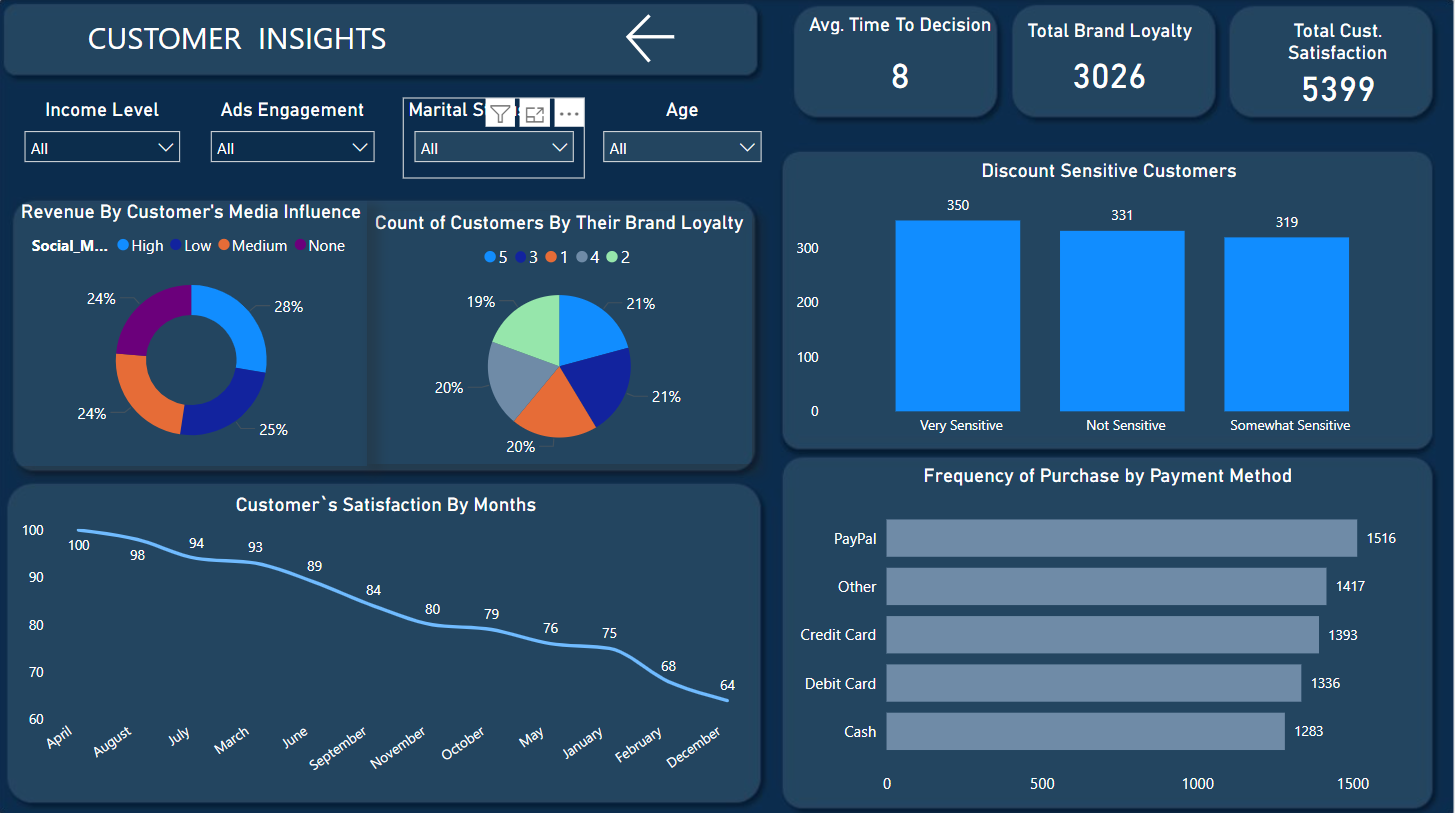

This screenshot's page, from the dashboard's own definition file:
{"tool":"powerbi","page":{"name":"Page 2","canvas":[1280,720],"ordinal":1},"visuals":[{"type":"textbox","box":[14.3,9.5,390.5,46.4],"z":0},{"type":"lineChart","title":" Customer`s Satisfaction By Months","fields":{"Y":["CountNonNull(Ecommerce Project Data.Customer_Satisfaction)"],"Category":["Ecommerce Project Data.Months"]},"box":[14.3,433.3,652.4,267.9],"z":1000},{"type":"slicer","title":"Income Level ","fields":{"Values":["Ecommerce Project Data.Income_Level"]},"box":[11.9,85.7,157.1,71.4],"z":2000},{"type":"slicer","title":"Ads Engagement ","fields":{"Values":["Ecommerce Project Data.Engagement_with_Ads"]},"box":[176.2,85.7,164.3,71.4],"z":3000},{"type":"pieChart","title":"Count of Customers By Their Brand Loyalty","fields":{"Y":["CountNonNull(Ecommerce Project Data.Customer_ID)"],"Category":["Ecommerce Project Data.Brand_Loyalty"]},"box":[323.8,185.7,339.3,222.6],"z":4000},{"type":"clusteredBarChart","title":" Frequency of Purchase by Payment Method","fields":{"Category":["Ecommerce Project Data.Payment_Method"],"Y":["Sum(Ecommerce Project Data.Frequency_of_Purchase)"]},"box":[695.2,408.3,560.7,301.2],"z":5000},{"type":"donutChart","title":"Revenue By Customer''s Media Influence","fields":{"Category":["Ecommerce Project Data.Social_Media_Influence"],"Y":["Sum(Ecommerce Project Data.Purchase_Amount)"]},"box":[14.3,176.2,309.5,233.3],"z":6000},{"type":"clusteredColumnChart","title":"Discount Sensitive Customers","fields":{"Y":["CountNonNull(Ecommerce Project Data.Customer_ID)"],"Category":["Ecommerce Project Data.Discount_Sensitivity"]},"box":[696.4,139.3,560.7,252.4],"z":7000},{"type":"slicer","title":"Marital Status","fields":{"Values":["Ecommerce Project Data.Marital_Status"]},"box":[354.8,85.7,160.7,71.4],"z":8000},{"type":"slicer","title":"Age","fields":{"Values":["Ecommerce Project Data.Age"]},"box":[521.4,85.7,159.5,71.4],"z":9000},{"type":"card","title":"Total Brand Loyalty ","fields":{"Values":["Sum(Ecommerce Project Data.Brand_Loyalty)"]},"box":[894.1,16.7,166.7,77.4],"z":10000},{"type":"card","title":"Avg. Time To Decision","fields":{"Values":["Avg(Ecommerce Project Data.Time_to_Decision)"]},"box":[707.1,10.7,171.4,88.1],"z":11000},{"type":"card","title":"Total Cust. Satisfaction ","fields":{"Values":["Sum(Ecommerce Project Data.Customer_Satisfaction)"]},"box":[1091.7,16.7,171.4,82.1],"z":12000},{"type":"actionButton","box":[546.4,7.1,100,54.8],"z":13000}]}

Visuals, with their boxes in screenshot pixels (x1, y1, x2, y2), scaled from the page's 1280x720 canvas onto the 1455x813 screenshot:
textbox: detection(16, 11, 460, 63)
" Customer`s Satisfaction By Months" lineChart: detection(16, 489, 758, 792)
"Income Level " slicer: detection(14, 97, 192, 177)
"Ads Engagement " slicer: detection(200, 97, 387, 177)
"Count of Customers By Their Brand Loyalty" pieChart: detection(368, 210, 754, 461)
" Frequency of Purchase by Payment Method" clusteredBarChart: detection(790, 461, 1428, 801)
"Revenue By Customer''s Media Influence" donutChart: detection(16, 199, 368, 462)
"Discount Sensitive Customers" clusteredColumnChart: detection(792, 157, 1429, 442)
"Marital Status" slicer: detection(403, 97, 586, 177)
"Age" slicer: detection(593, 97, 774, 177)
"Total Brand Loyalty " card: detection(1016, 19, 1206, 106)
"Avg. Time To Decision" card: detection(804, 12, 999, 112)
"Total Cust. Satisfaction " card: detection(1241, 19, 1436, 112)
actionButton: detection(621, 8, 735, 70)
